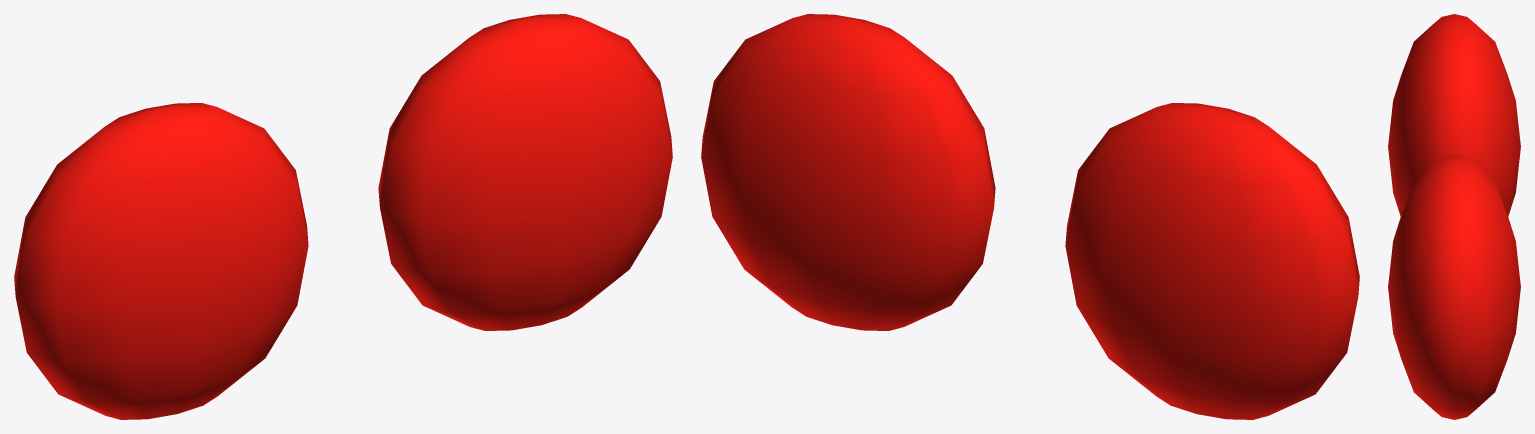
File: flatwoods_eyes.obj
3 views of the same model, side by side, from view 1: azimuth 30°, elevation 25°; view 2: azimuth 150°, elevation 25°; view 3: azimuth 270°, elevation 25° (orthographic). The views are drawn at different scales.
Visible parts, largest first — view 1: part0, part1; view 2: part0, part1; view 3: part1, part0.
Boxes of the visible parts, x1,y1,x2,y2 form: part0: [14, 103, 308, 419]; part1: [378, 14, 672, 330]; part0: [1065, 103, 1359, 419]; part1: [701, 14, 995, 330]; part1: [1388, 154, 1520, 419]; part0: [1388, 14, 1520, 216].
Size of the model in its own units: 0.36 by 0.16 by 0.08.
